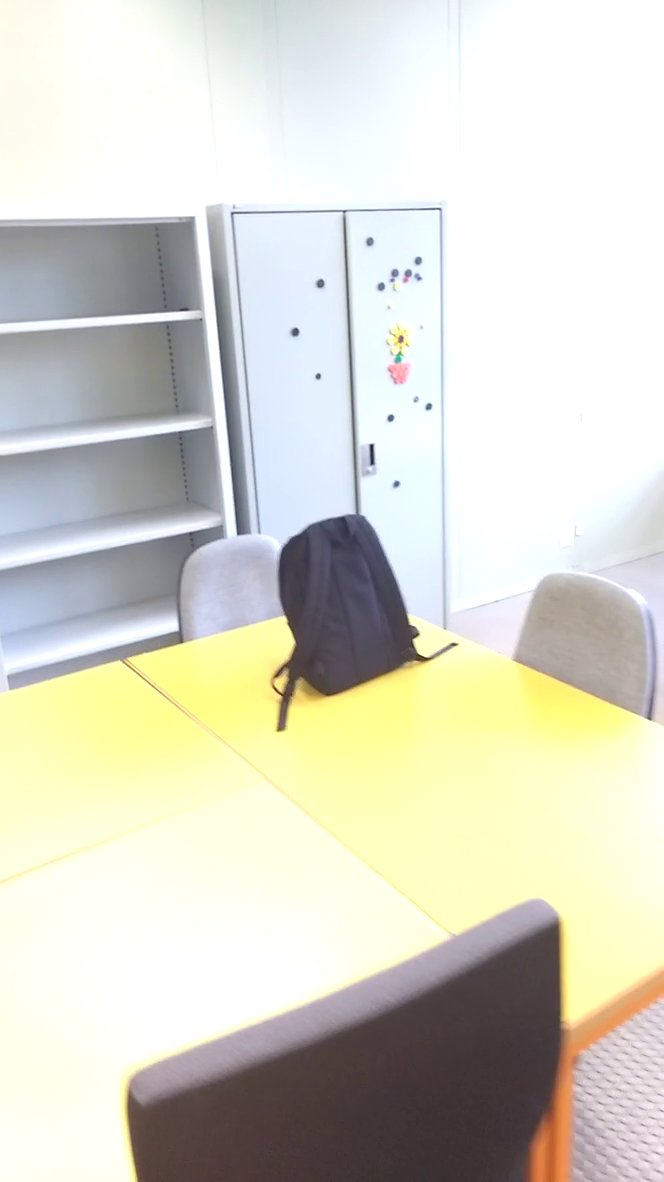bag: (265, 507, 465, 735)
chair: (88, 858, 609, 1182), (497, 539, 664, 741), (164, 519, 308, 647)
